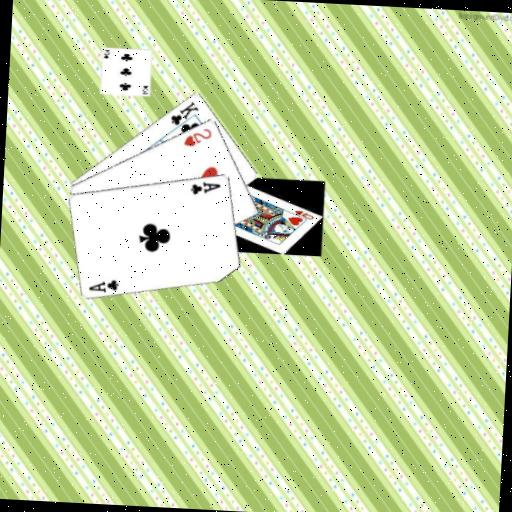2H: (181, 124, 214, 149)
AC: (187, 177, 222, 197), (86, 275, 121, 295)
KC: (167, 97, 201, 134)
